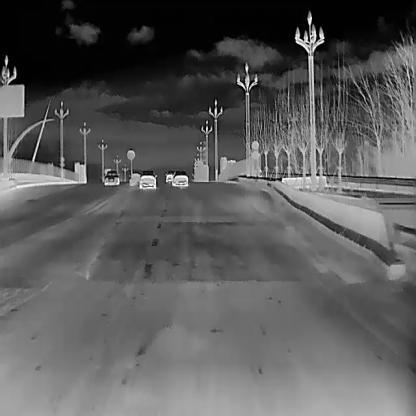car: (139, 169, 157, 190), (172, 170, 188, 187), (103, 169, 118, 184), (164, 169, 174, 183)
